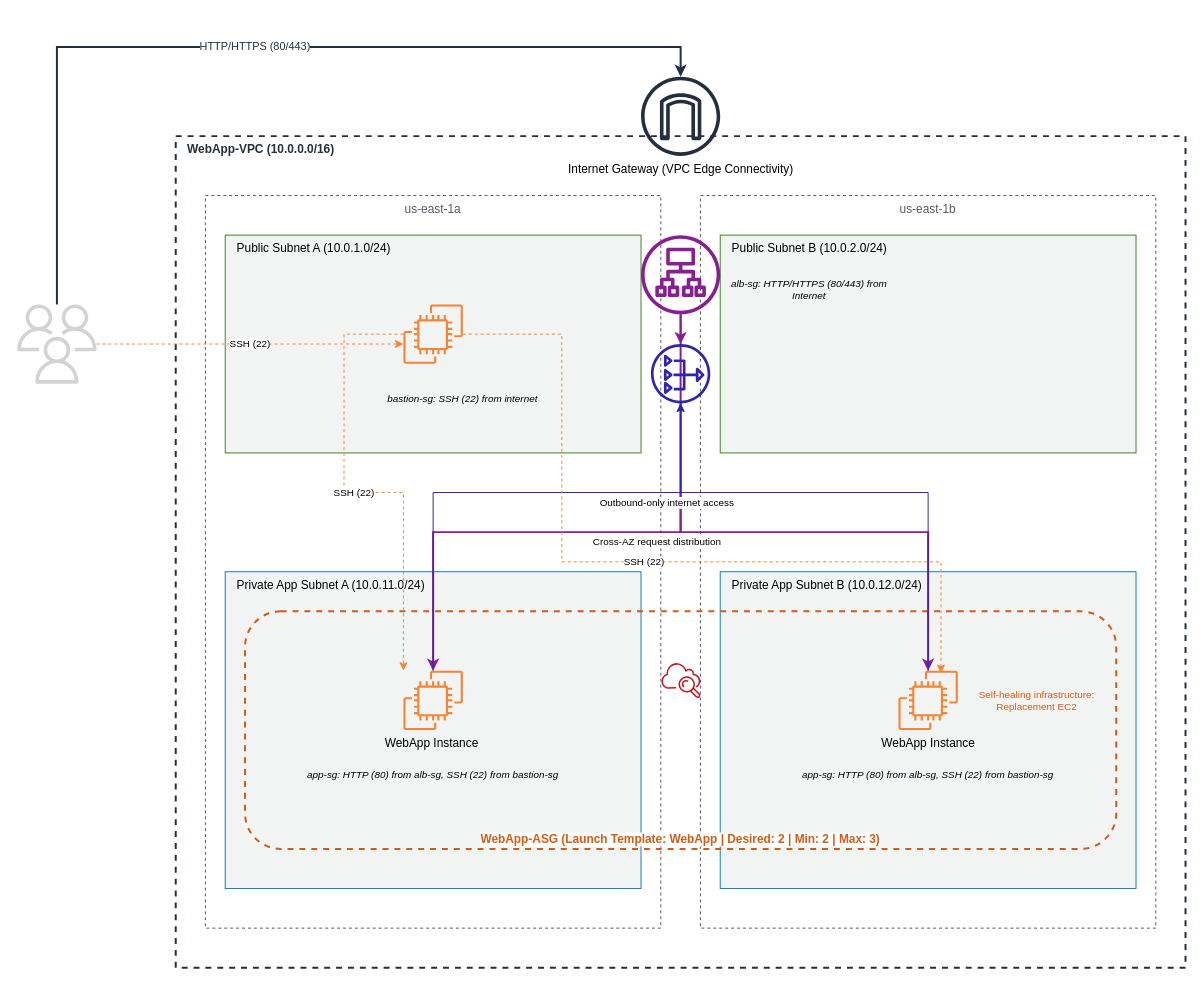
The diagram is 1203 pixels wide and 985 high, and some of its shapes have lost their labels. The shapes that lost their labels are listed below. From the top down, each one's centre as x and y in pixels, then its label:
At (x=680, y=274): "Internet-facing ALB (HTTP/HTTPS 80/443)".
At (x=56, y=343): "Internet Users".
At (x=432, y=333): "Bastion Host (SSH Access)".
At (x=680, y=373): "Regional NAT Gateway (Outbound Internet for Private Instances)".
At (x=680, y=680): "CPU Metrics CPU-based scaling policy (~50% target utilization)".
